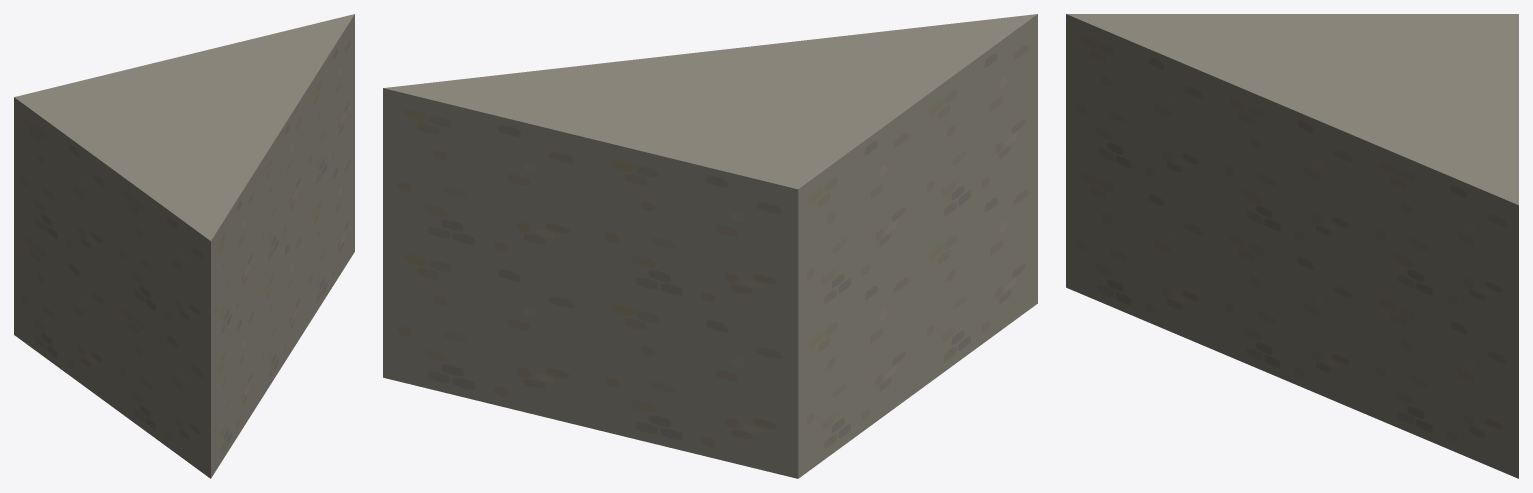
The model's file is Block_A01.fbx.
The picture shows the model from 3 angles, left to right: view 1: azimuth 30°, elevation 25°; view 2: azimuth 150°, elevation 25°; view 3: azimuth 270°, elevation 25°; orthographic projection. The views are drawn at different scales.
Parts seen in each view (by area): view 1: Block_A01; view 2: Block_A01; view 3: Block_A01.
Boxes of the visible parts, <box> form: Block_A01: <box>14,14,354,478</box>; Block_A01: <box>383,14,1037,478</box>; Block_A01: <box>1066,14,1518,478</box>.
Size of the model in its own units: 600 by 400 by 600.
1 material, 1 textured.
